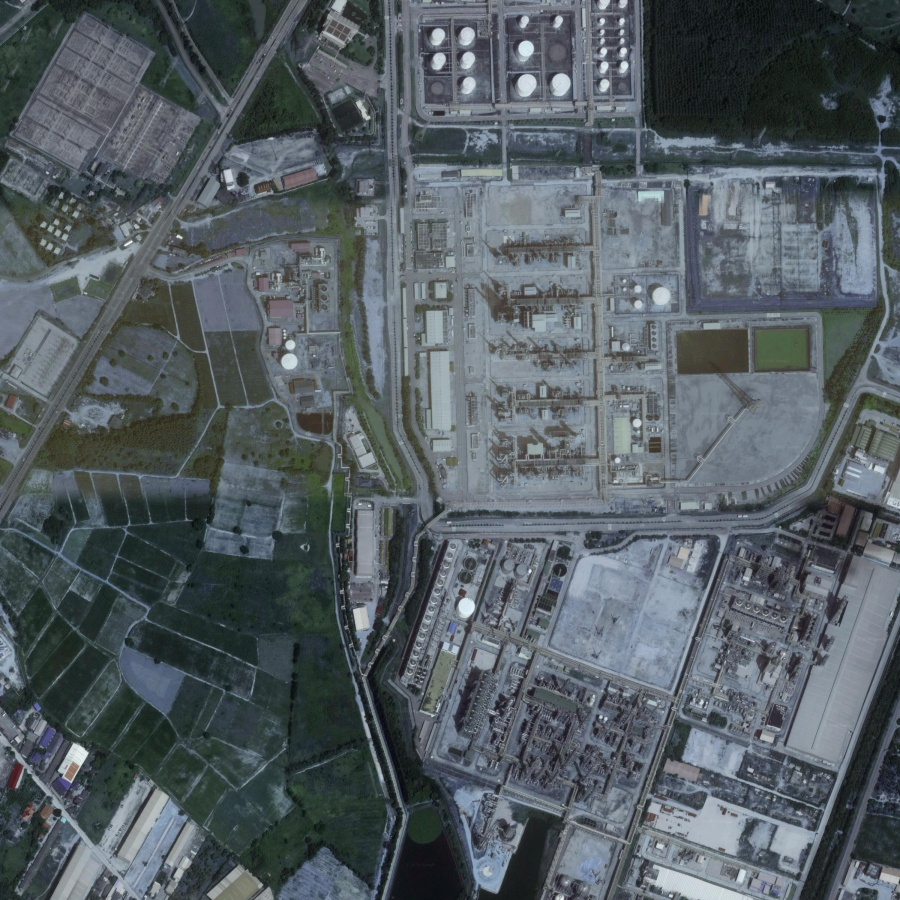PowerPlant: (478, 215, 672, 403)
